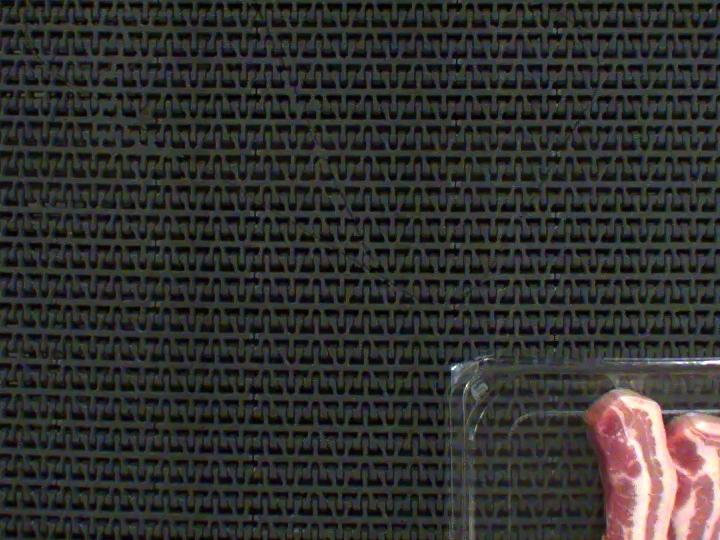packaging-error: (604, 363, 647, 391)
